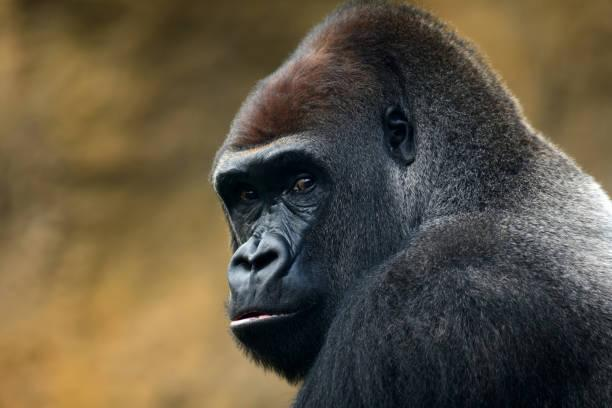gorille_Autres: (172, 0, 612, 408)
